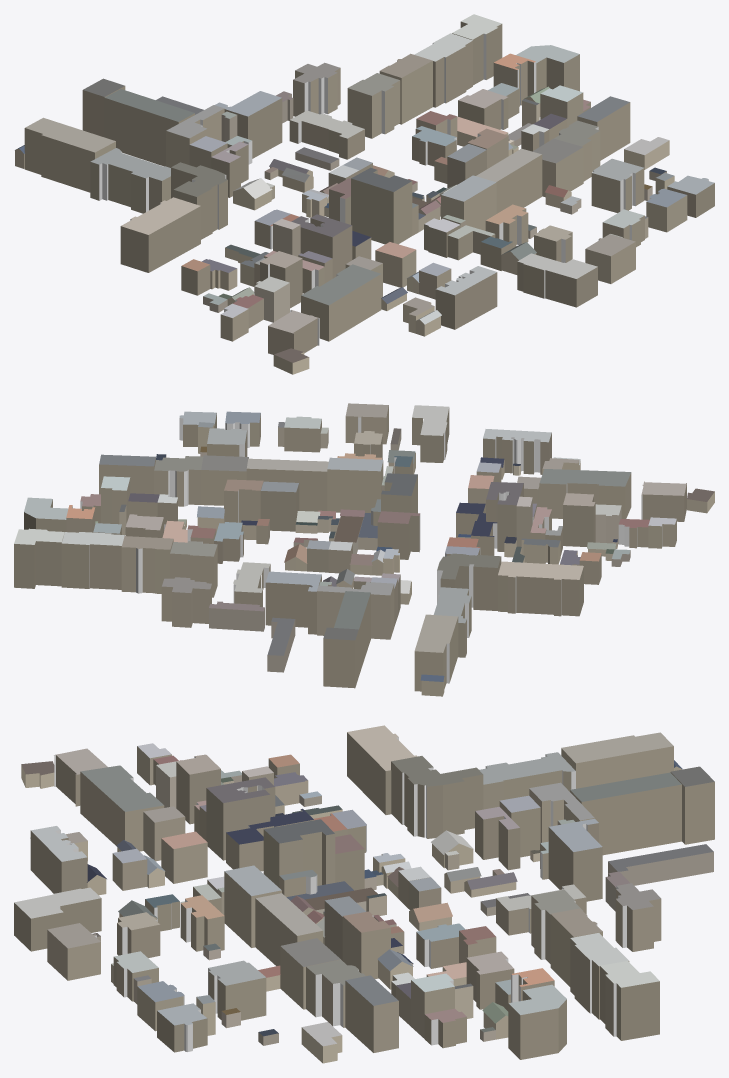
3 renders of one model, top to bottom at view 1: azimuth 30°, elevation 25°; view 2: azimuth 150°, elevation 25°; view 3: azimuth 270°, elevation 25°, orthographic. The views are drawn at different scales.
Parts seen in each view (by area): view 1: tuile; view 2: tuile; view 3: tuile.
Boxes of the visible parts, box(x1,y1,x2,y2) form: tuile: box(15, 14, 714, 374); tuile: box(14, 403, 714, 696); tuile: box(14, 725, 714, 1063).
Size of the model in its own units: 262 by 27.74 by 263.
